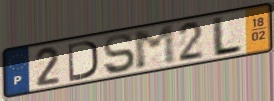2: (177, 20, 205, 64), (34, 45, 62, 88)
D: (66, 38, 101, 83)
L: (210, 14, 245, 59)
M: (131, 23, 179, 72)
S: (102, 32, 138, 77)
